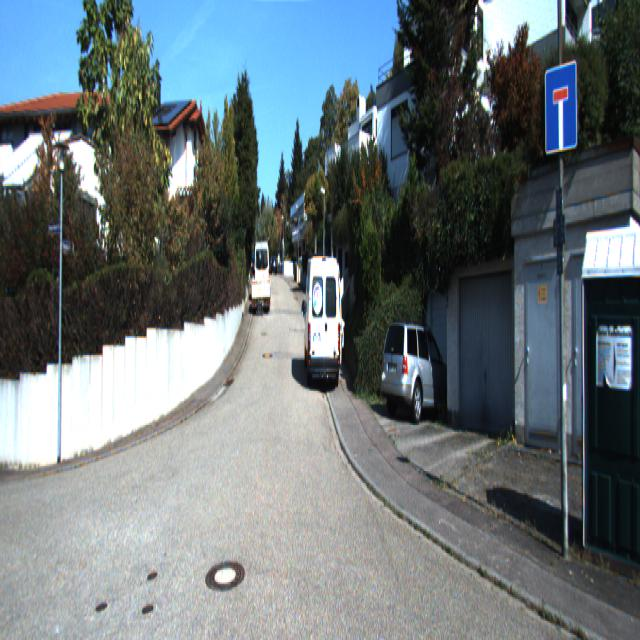Car: (380, 321, 462, 425), (303, 250, 344, 390), (254, 240, 269, 303), (252, 280, 272, 311)
